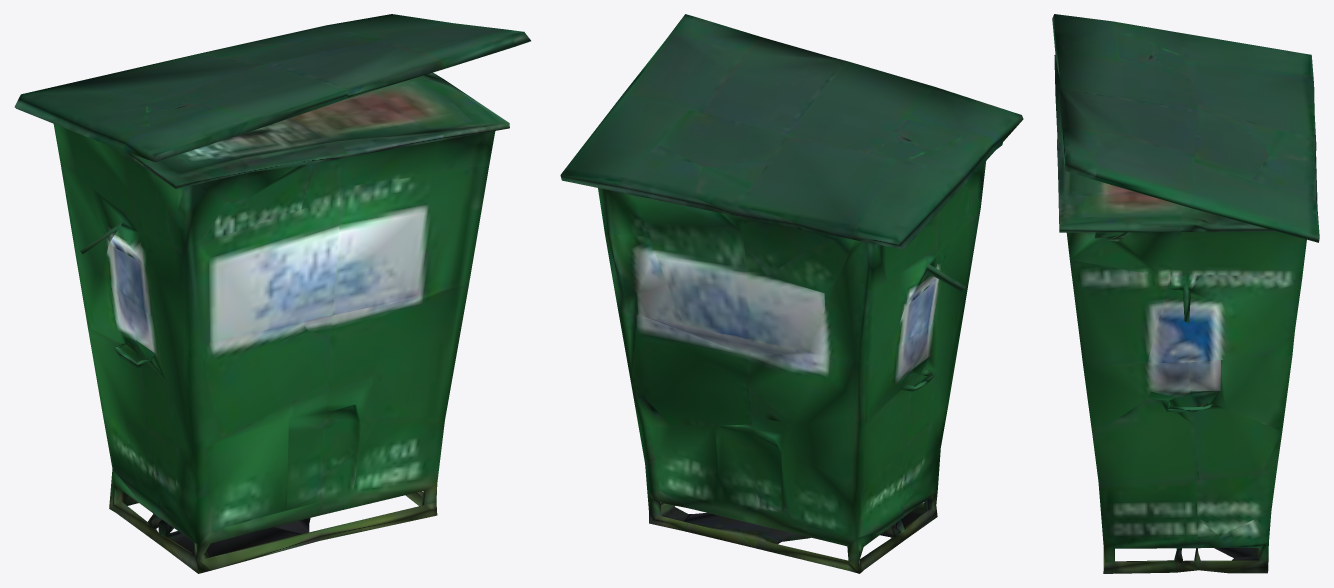
File: poubelle.glb
3 renders of one model, left to right at view 1: azimuth 30°, elevation 25°; view 2: azimuth 150°, elevation 25°; view 3: azimuth 270°, elevation 25°, orthographic. The views are drawn at different scales.
Visible parts, largest first — view 1: tripo_node_773d9f6a-433c-4b00-8afe-1b14a01bd627; view 2: tripo_node_773d9f6a-433c-4b00-8afe-1b14a01bd627; view 3: tripo_node_773d9f6a-433c-4b00-8afe-1b14a01bd627.
Boxes of the visible parts, x1,y1,x2,y2 form: tripo_node_773d9f6a-433c-4b00-8afe-1b14a01bd627: (14,14,530,573); tripo_node_773d9f6a-433c-4b00-8afe-1b14a01bd627: (560,14,1023,573); tripo_node_773d9f6a-433c-4b00-8afe-1b14a01bd627: (1052,14,1319,573).
Size of the model in its own units: 0.8444 by 0.9986 by 0.5428.
Materials: 1 (1 with a texture image).
